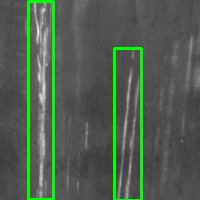scratches: (28, 1, 53, 199), (114, 48, 141, 200)
